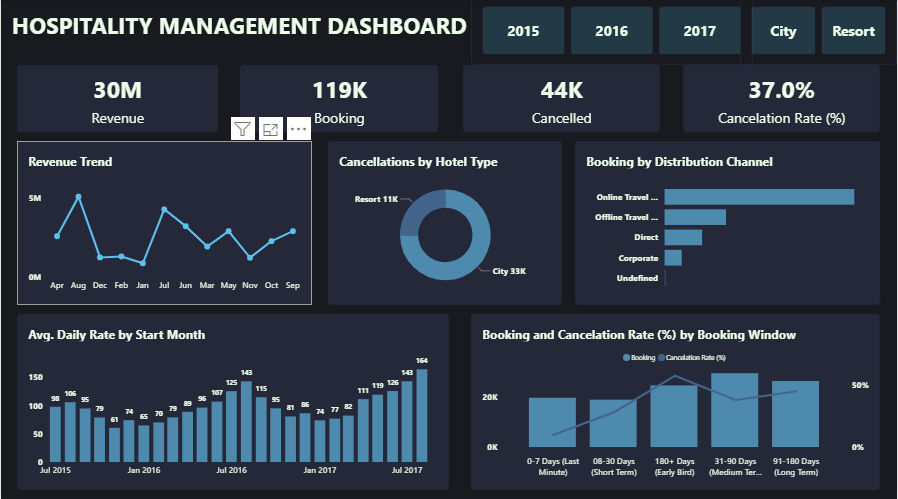

What the dashboard file says about the page in this screenshot:
{"tool":"powerbi","page":{"name":"Page 3","canvas":[1280,720],"ordinal":2},"visuals":[{"type":"textbox","box":[10,0,661.4,100],"z":0},{"type":"card","fields":{"Values":["_Measure.Revenue"]},"box":[22.9,100,287.1,95.7],"z":1000},{"type":"advancedSlicerVisual","fields":{"Values":["DimDate.Year"]},"box":[671.4,0,402.9,100],"z":2000},{"type":"card","fields":{"Values":["_Measure.Booking"]},"box":[341.4,100,282.9,95.7],"z":3000},{"type":"card","fields":{"Values":["_Measure.Cancelled"]},"box":[660,100,281.4,95.7],"z":4000},{"type":"card","fields":{"Values":["_Measure.Cancelation Rate (%)"]},"box":[974.3,100,281.4,95.7],"z":5000},{"type":"lineChart","title":"Revenue Trend","fields":{"Y":["_Measure.Revenue"],"Category":["DimDate.Month Name"]},"box":[22.9,208.6,421.4,234.3],"z":6000},{"type":"clusteredColumnChart","title":"Avg. Daily Rate by Start Month","fields":{"Category":["DimDate.Start of the Month"],"Y":["_Measure.Avg. Daily Rate"]},"box":[22.9,455.7,617.1,251.4],"z":7000},{"type":"donutChart","title":"Cancellations by Hotel Type","fields":{"Y":["Sum(Data.Cancelled (0/1))"],"Category":["Data.Hotel"]},"box":[467.1,208.6,334.3,234.3],"z":8000},{"type":"advancedSlicerVisual","fields":{"Values":["Data.Hotel"]},"box":[1055.7,0,224.3,100],"z":9000},{"type":"barChart","fields":{"Category":["Data.Distribution Channel"],"Y":["_Measure.Booking"]},"box":[820,208.6,435.7,234.3],"z":10000},{"type":"lineClusteredColumnComboChart","fields":{"Category":["Data.Booking Window"],"Y":["_Measure.Booking"],"Y2":["_Measure.Cancelation Rate (%)"]},"box":[671.4,455.7,584.3,251.4],"z":11000}]}

Visuals, with their boxes in screenshot pixels (x1, y1, x2, y2), scaled from the page's 1280x720 canvas onto the 898x499 screenshot:
textbox: x1=7, y1=0, x2=471, y2=69
card - _Measure.Revenue: x1=16, y1=69, x2=217, y2=136
advancedSlicerVisual - DimDate.Year: x1=471, y1=0, x2=754, y2=69
card - _Measure.Booking: x1=240, y1=69, x2=438, y2=136
card - _Measure.Cancelled: x1=463, y1=69, x2=660, y2=136
card - _Measure.Cancelation Rate (%): x1=684, y1=69, x2=881, y2=136
"Revenue Trend" lineChart: x1=16, y1=145, x2=312, y2=307
"Avg. Daily Rate by Start Month" clusteredColumnChart: x1=16, y1=316, x2=449, y2=490
"Cancellations by Hotel Type" donutChart: x1=328, y1=145, x2=562, y2=307
advancedSlicerVisual - Data.Hotel: x1=741, y1=0, x2=897, y2=69
barChart - Data.Distribution Channel x _Measure.Booking: x1=575, y1=145, x2=881, y2=307
lineClusteredColumnComboChart - Data.Booking Window x _Measure.Booking: x1=471, y1=316, x2=881, y2=490
